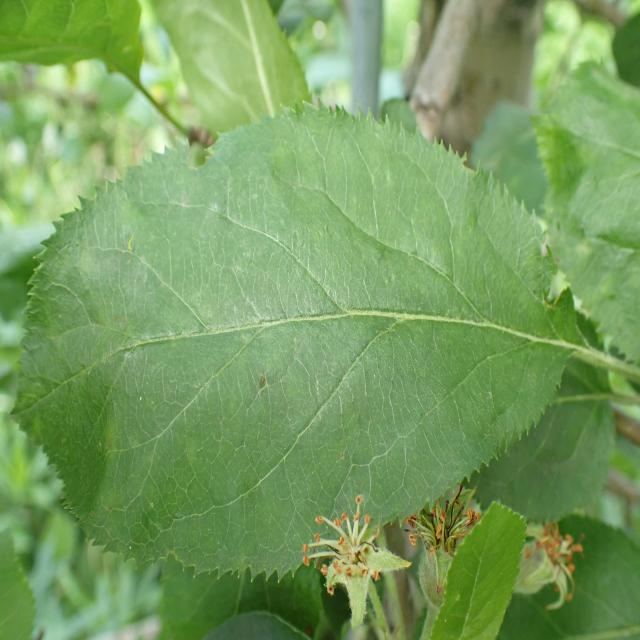scab: (88, 182, 516, 475)
